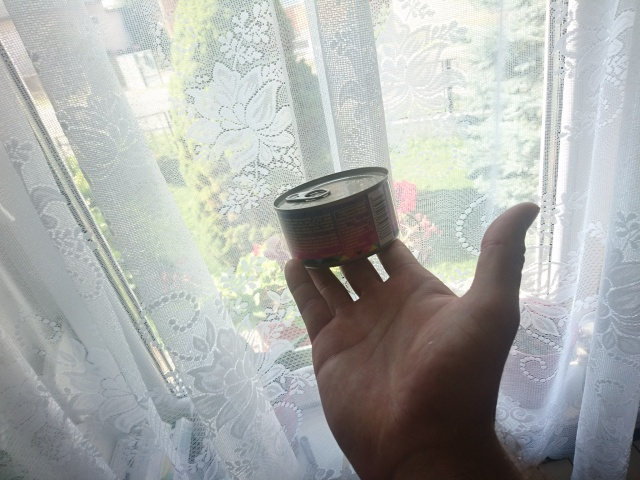Giana Tuna Salad Mexico 185g: (271, 164, 401, 270)
